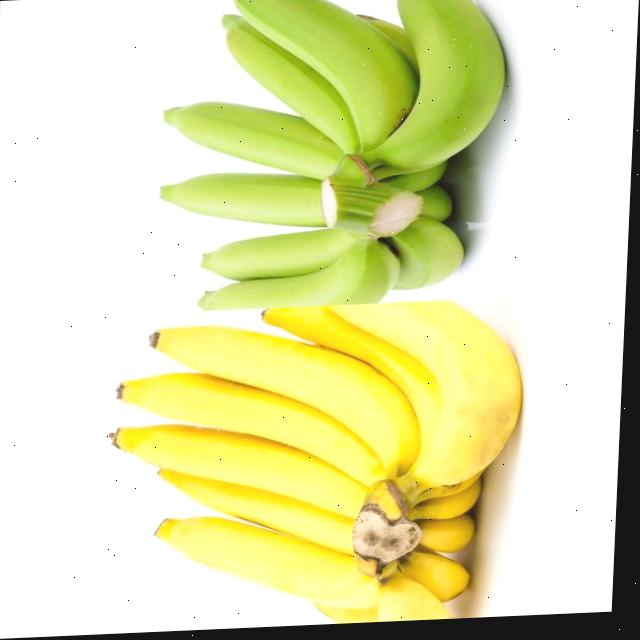banana: (101, 294, 540, 619), (149, 0, 556, 325)
